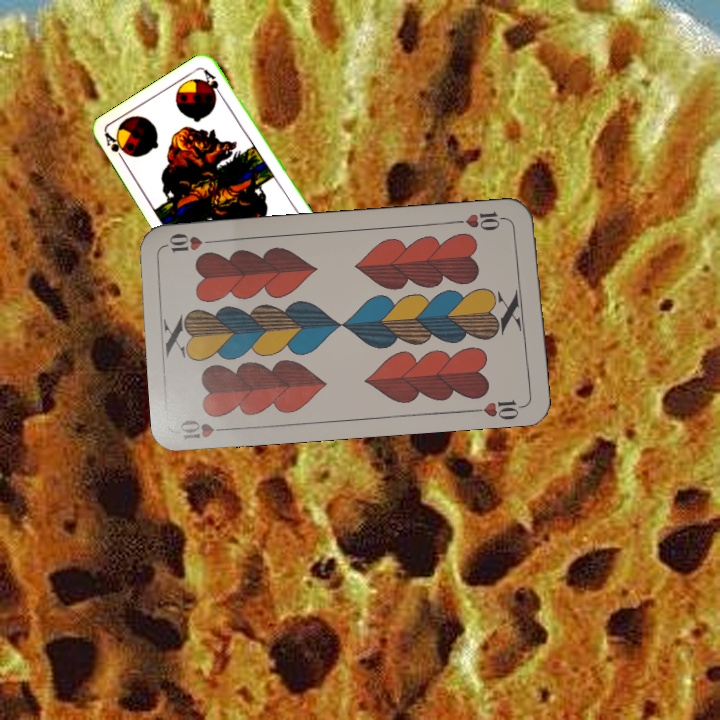H10: (176, 415, 235, 443), (451, 207, 510, 234)
SA: (100, 129, 128, 166)
